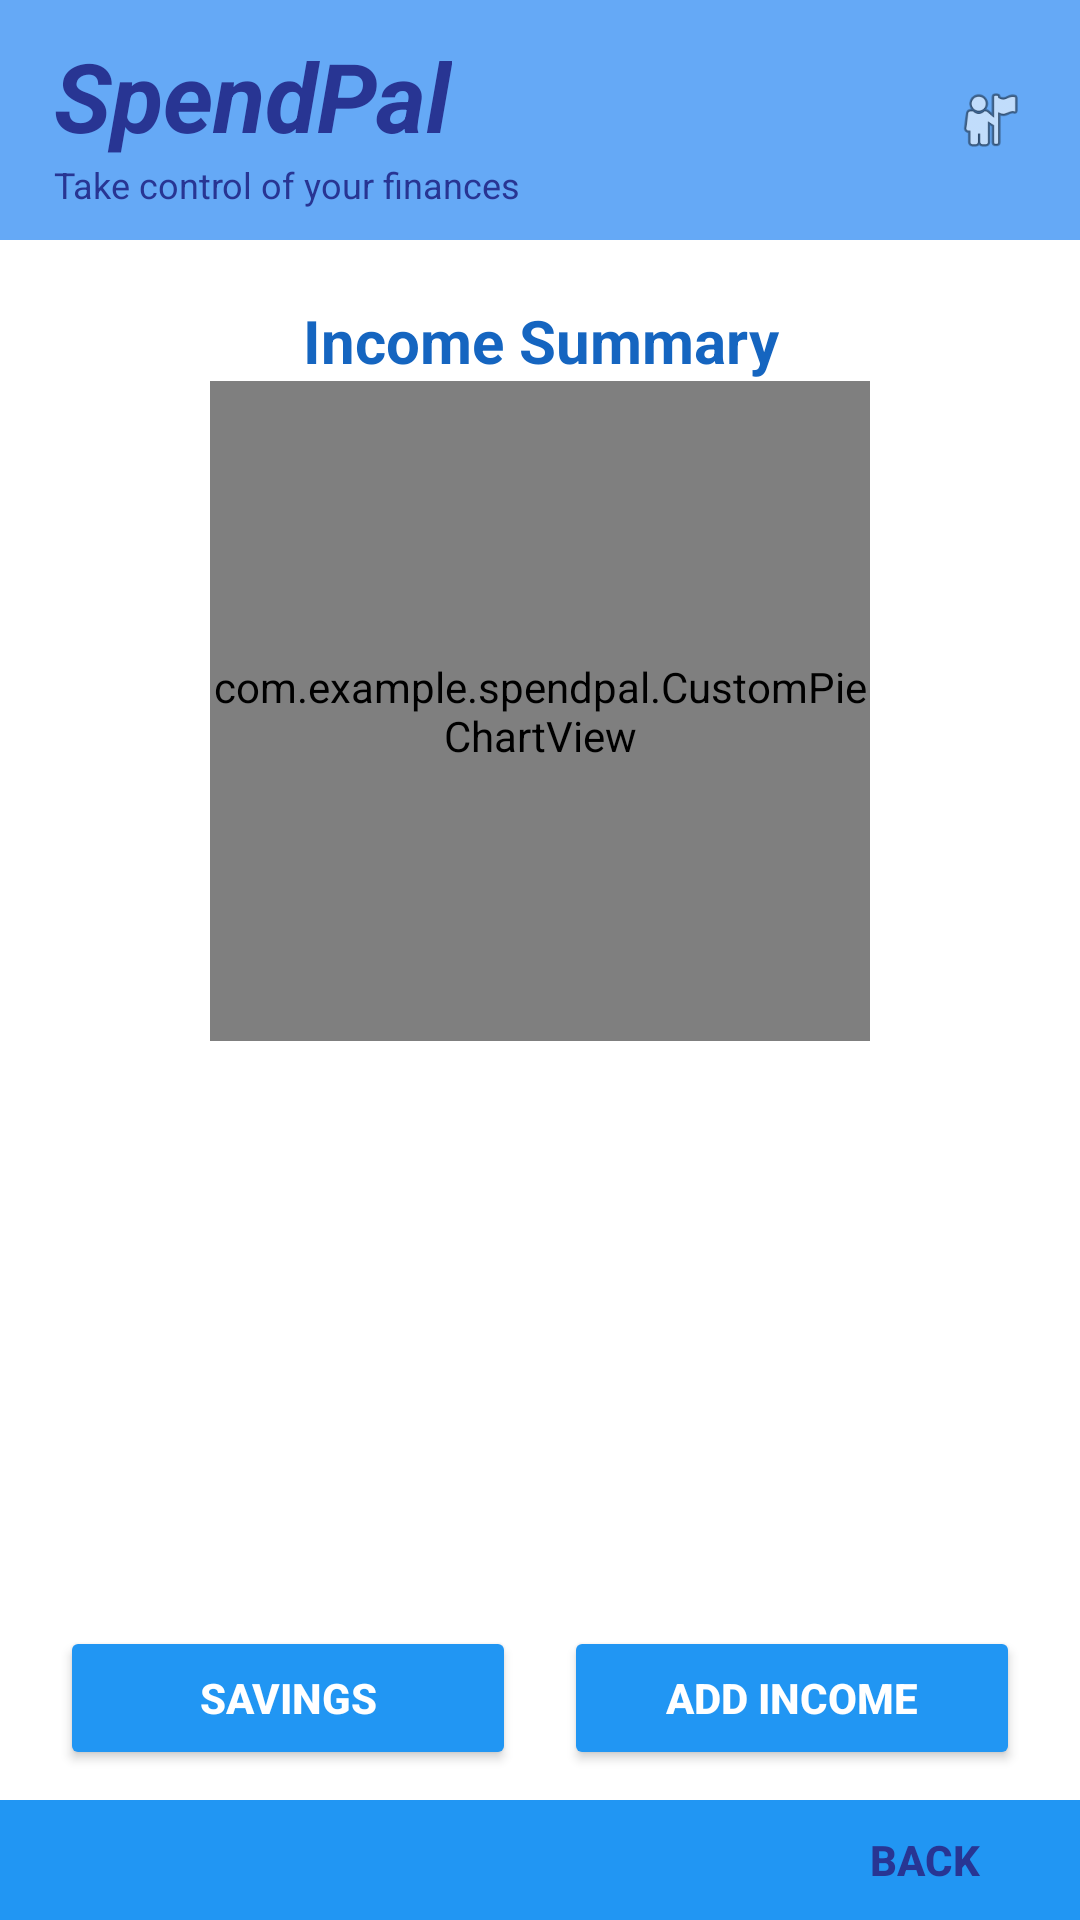

Where icons sit on this 1080 × 1920 app screen, as (x1, y1, x2, y2):
Profile: (964, 93, 1018, 147)
